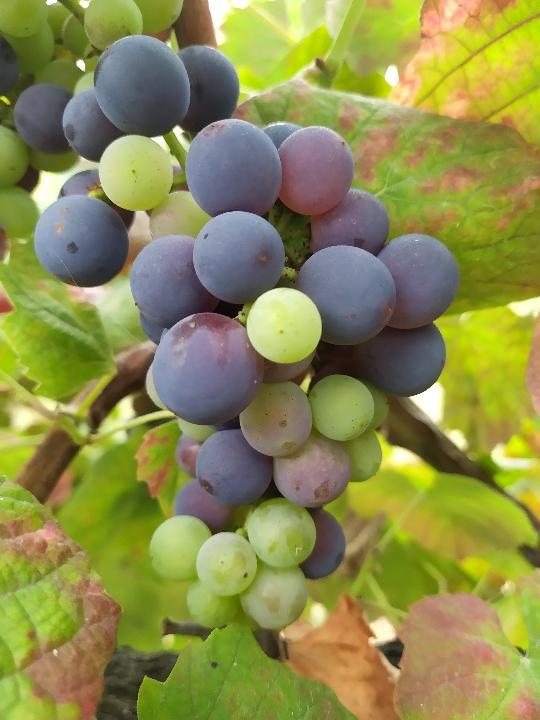grape: (125, 117, 464, 635)
